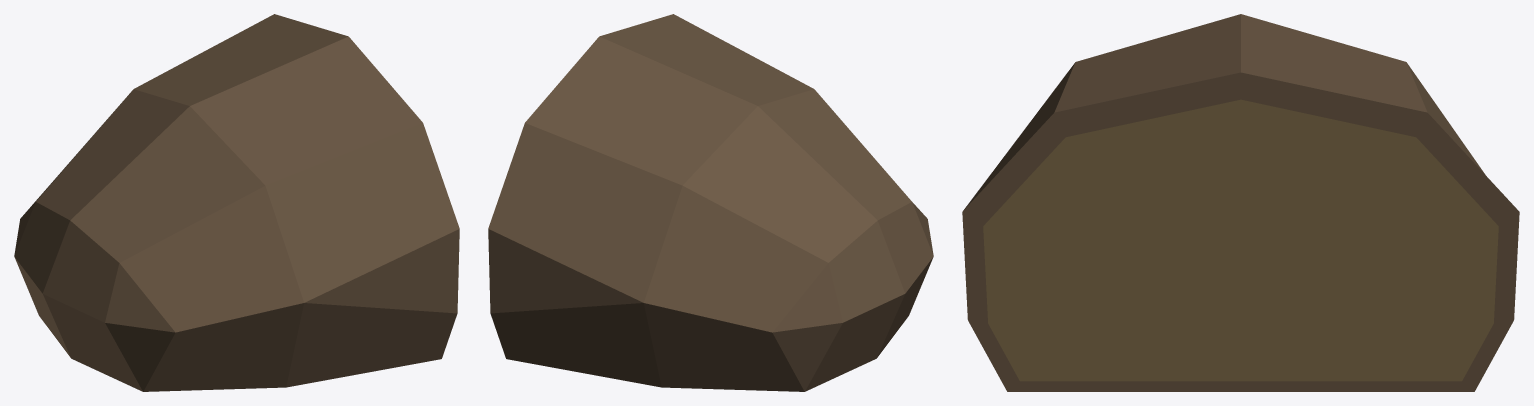
Rendered from Bread_Half.glb.
3 views of the same model, side by side, from view 1: azimuth 30°, elevation 25°; view 2: azimuth 150°, elevation 25°; view 3: azimuth 270°, elevation 25° (orthographic). The views are drawn at different scales.
Parts seen in each view (by area): view 1: Bread_Half.001; view 2: Bread_Half.001; view 3: Bread_Half.001.
Boxes of the visible parts, x1,y1,x2,y2 form: Bread_Half.001: (14, 14, 459, 391); Bread_Half.001: (488, 14, 933, 391); Bread_Half.001: (962, 14, 1519, 391).
Bounding box in the file's own units: 0.1835 × 0.1458 × 0.2305.
Materials: 1 (1 with a texture image).
